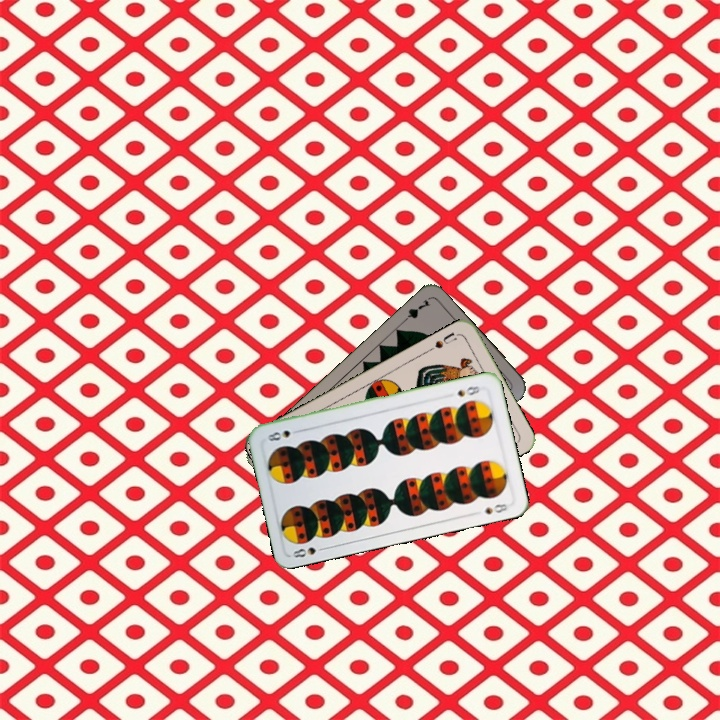G7: (397, 295, 433, 327)
S8: (288, 543, 329, 560), (453, 382, 482, 399)
SU: (424, 328, 459, 354)
